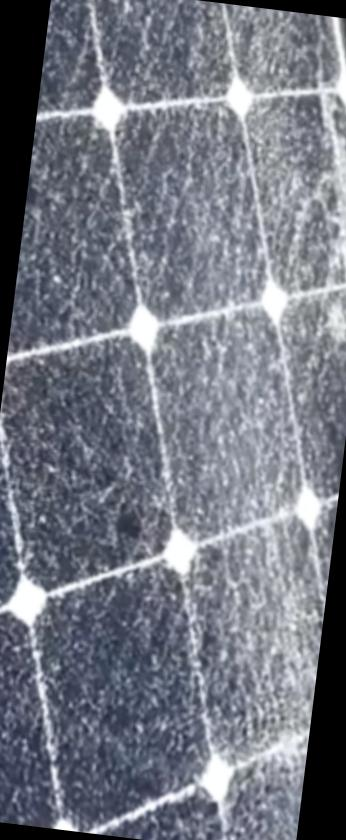Crack: (94, 393, 345, 839), (107, 0, 345, 403)
